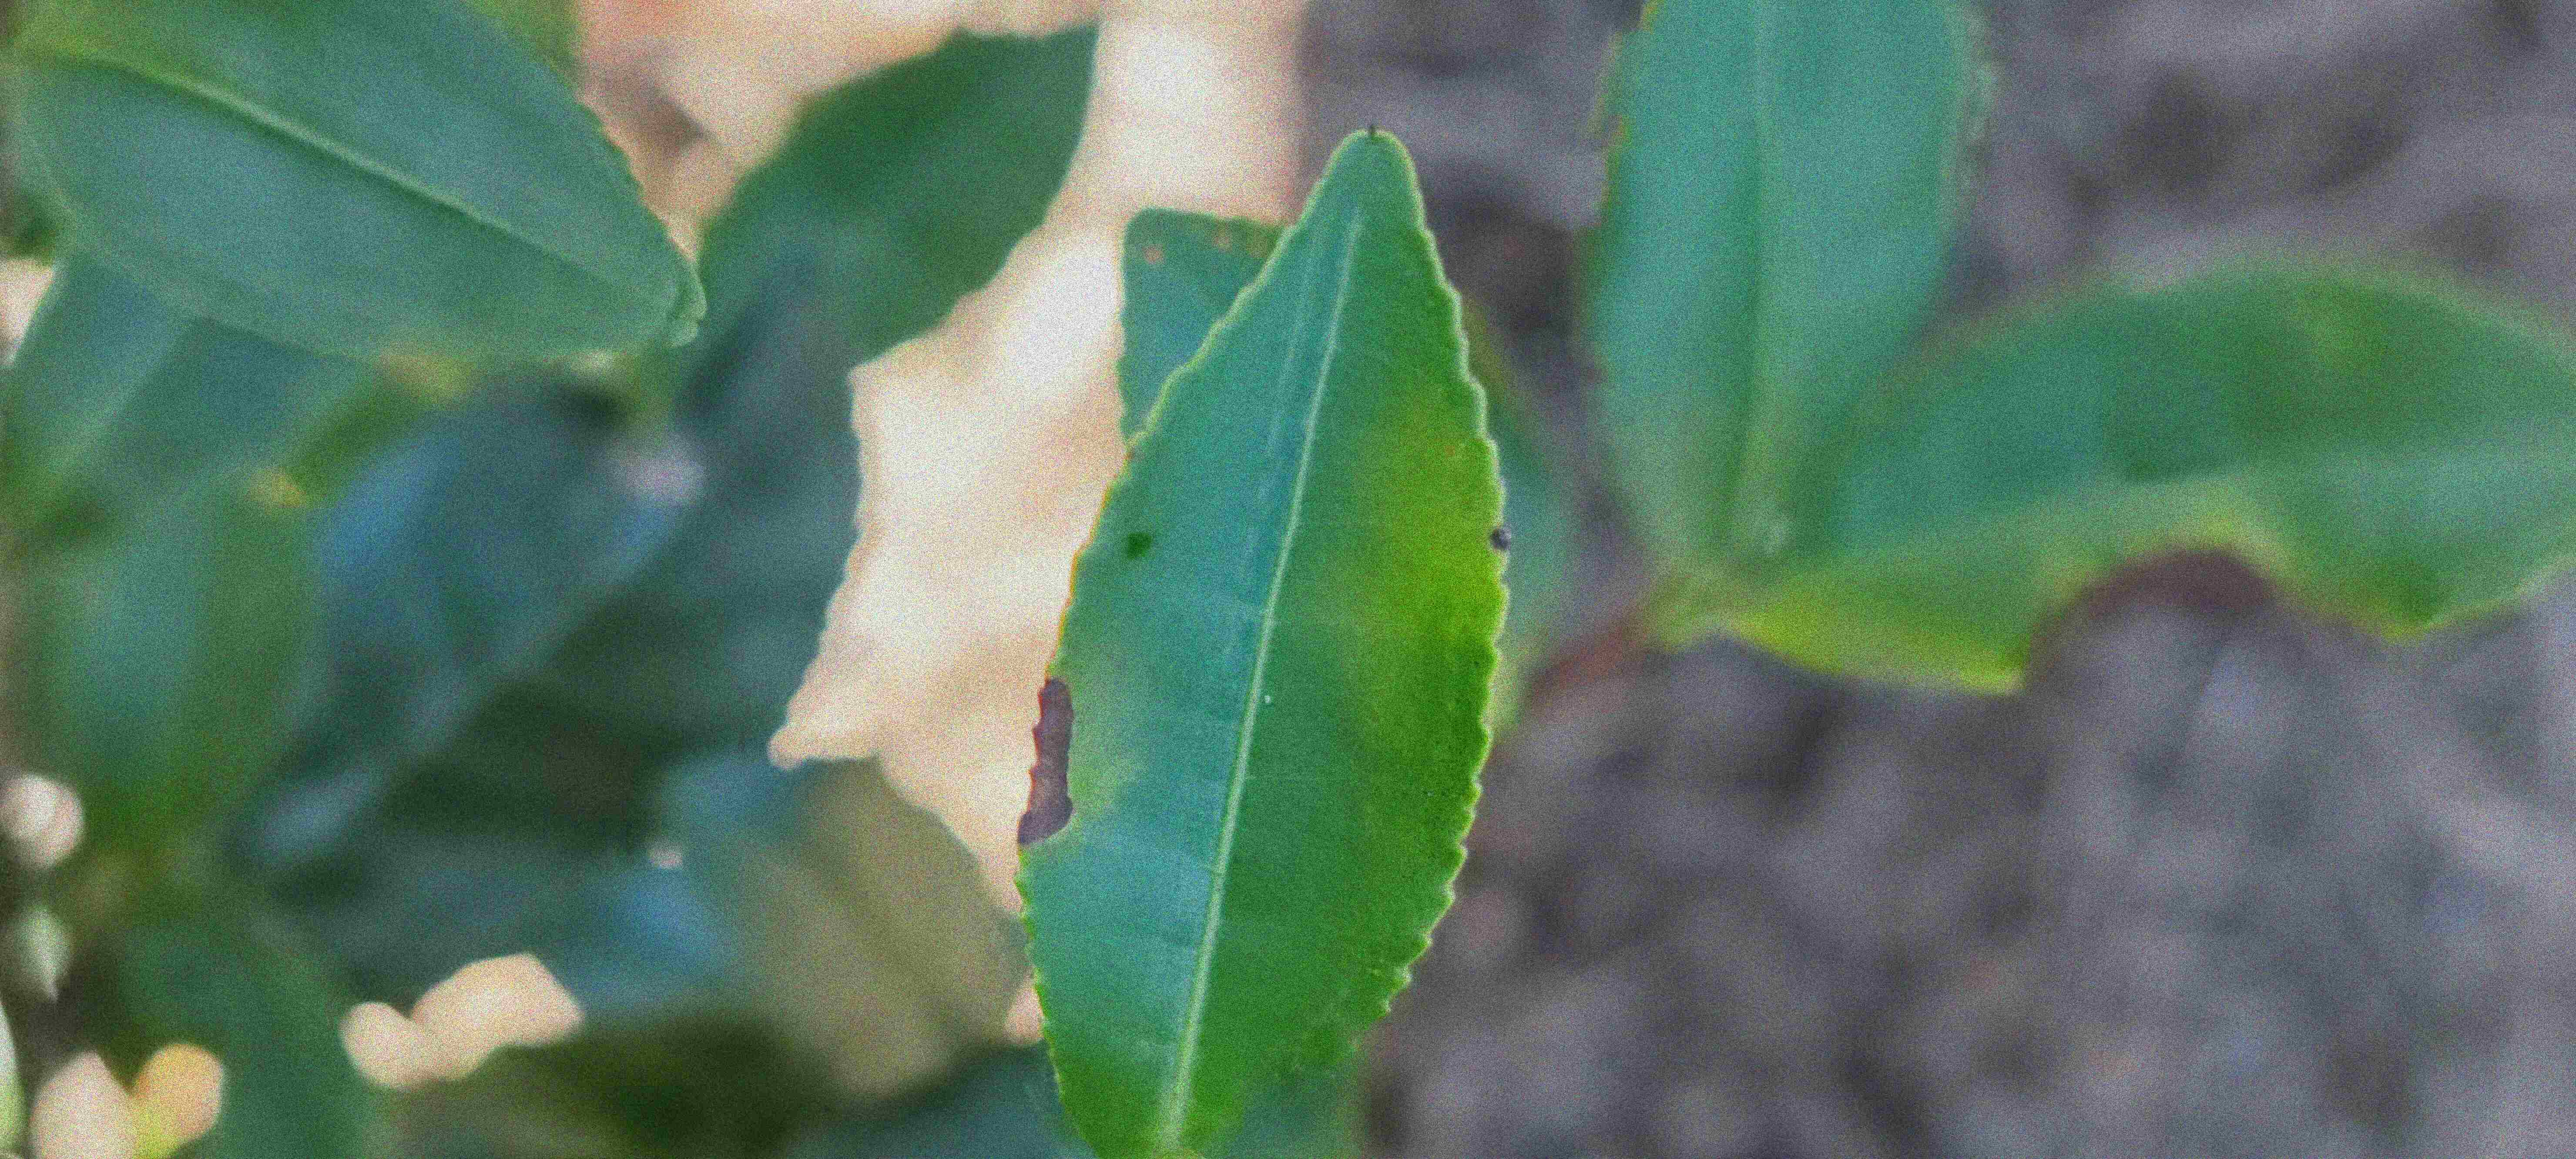healthy: (5, 5, 708, 376)
tanju_high: (1009, 131, 1520, 1156), (1702, 251, 2574, 701)
